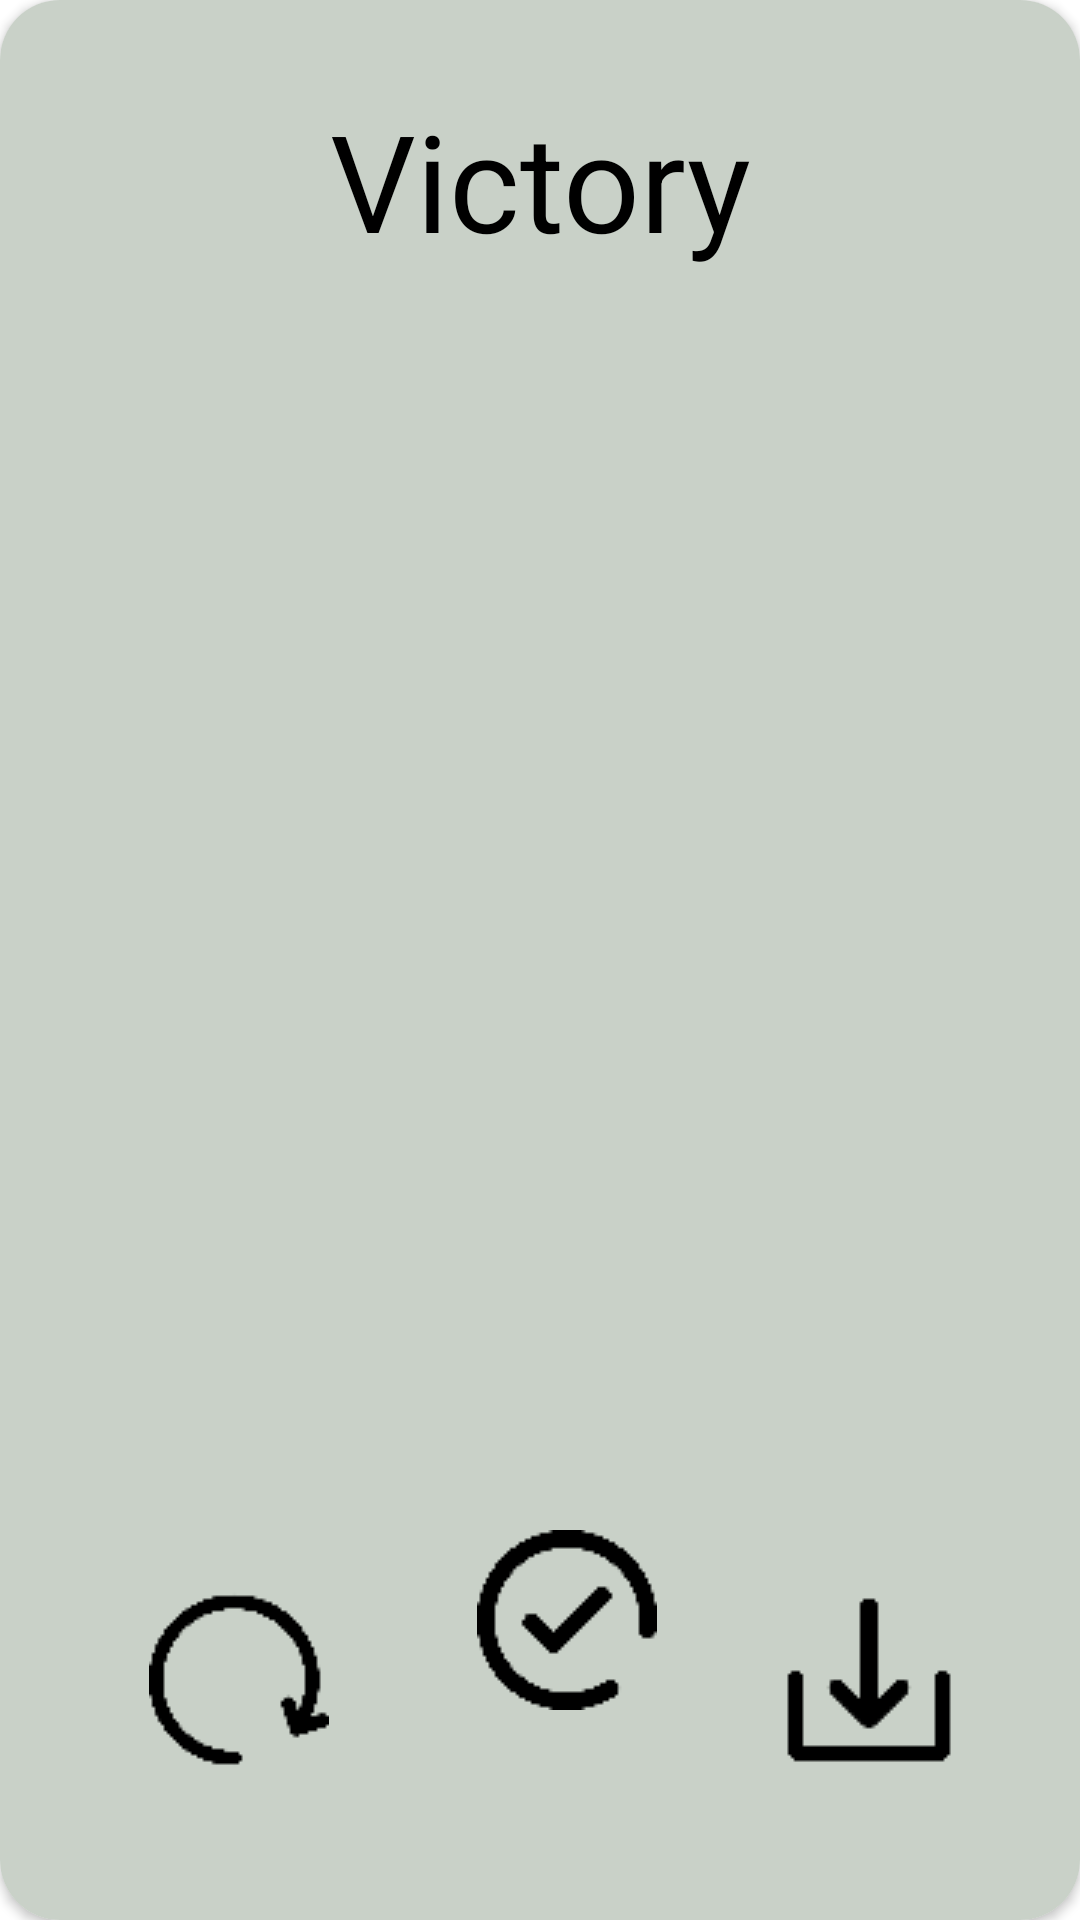

Icon click points for this 1080 x 1920 phone screenshot, format (x,y):
accept: (567,1620)
again: (239,1680)
save: (869,1680)
